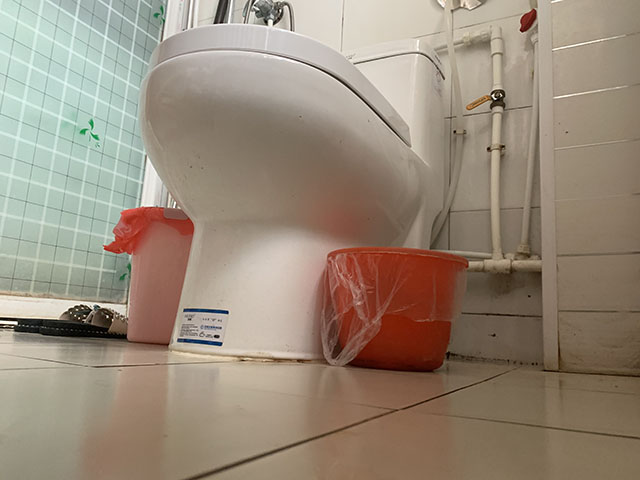closestool: (136, 22, 446, 363)
slippers: (13, 303, 128, 340)
trashcan: (319, 244, 470, 372), (102, 206, 195, 345)
